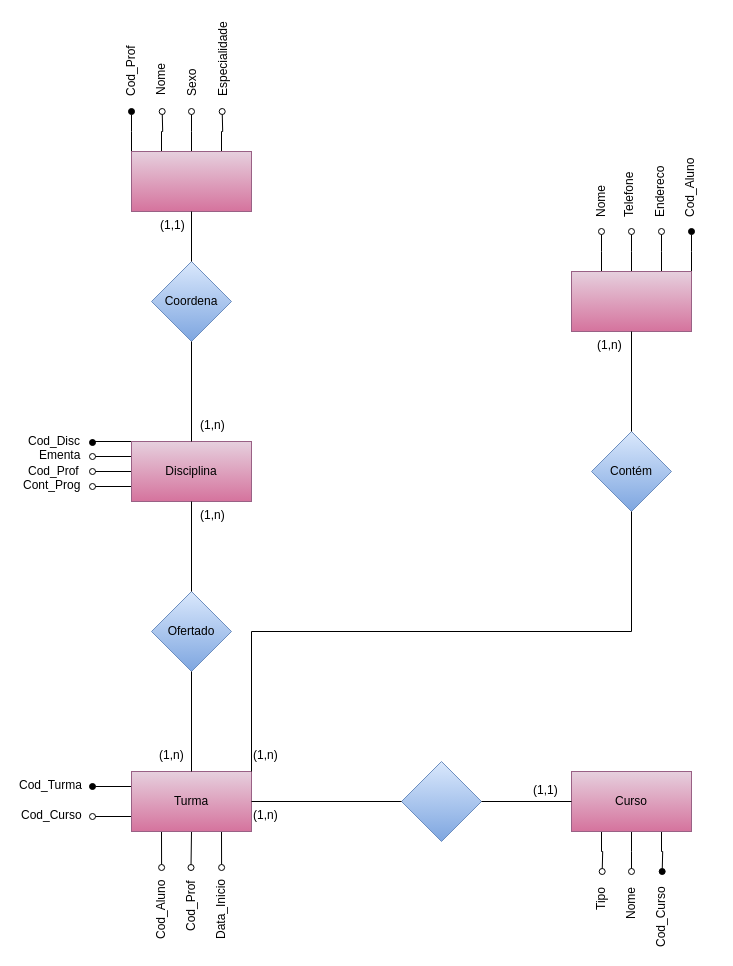
Some shapes in this 733 by 966 pixel diagram are drawn without their labels. Here are the shapes that lost their labels. From the top down, the centre of each, then its label:
the point at 191,181: Professor
the point at 631,301: Aluno
the point at 441,801: Tem
